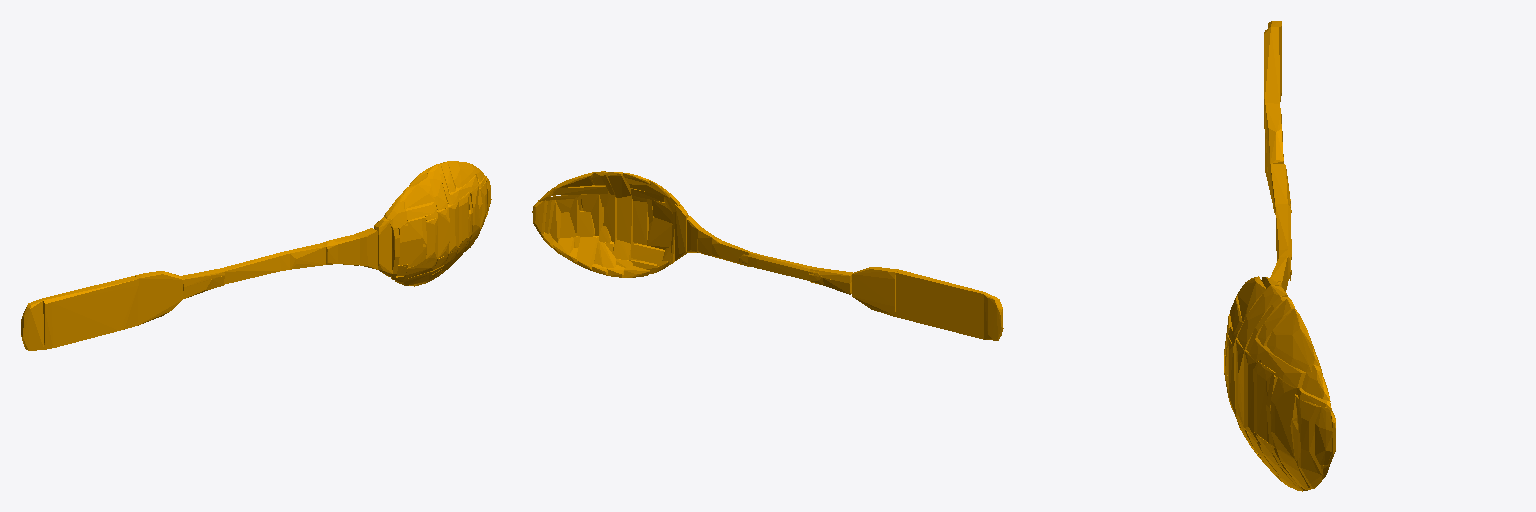
robot.urdf — cutlery-spoon:
<?xml version="1.0" ?>
<robot name="cutlery-spoon">
  <link name="baseLink">
    <contact>
      <lateral_friction value="1.0"/>
      <inertia_scaling value="3.0"/>
    </contact>
    <inertial>
      <origin rpy="0 0 0" xyz="0.000 0.000 0.000"/>
       <mass value=".1"/>
       <inertia ixx="1" ixy="0.0" ixz="0.0" iyy="1" iyz="0.0" izz="1"/>
    </inertial>
    <visual>
      <origin rpy="0 0 0" xyz="0 0 0"/>
      <geometry>
        <mesh filename="cutlery/cutlery-spoon_3_new.obj" scale="1.0 1.0 1.0"/>
      </geometry>
    </visual>
    <collision>
      <origin rpy="0 0 0" xyz="0 0 0"/>
      <geometry>
        <mesh filename="../collision/cutlery/cutlery-spoon_3_new.obj" scale="1.0 1.0 1.0"/>
      </geometry>
    </collision>
  </link>
</robot>
        

--- Render facts (derived) ---
The picture shows the robot from 3 angles, left to right: view 1: azimuth 30°, elevation 25°; view 2: azimuth 150°, elevation 25°; view 3: azimuth 270°, elevation 25°; orthographic projection.
Model cutlery-spoon with 1 links and 0 joints (none), rooted at baseLink, posed all joints at 0.
Links seen in each view (by area): view 1: baseLink; view 2: baseLink; view 3: baseLink.
Link boxes in pixels (x1,y1,x2,y2): baseLink: [21, 161, 491, 350]; baseLink: [532, 171, 1003, 340]; baseLink: [1224, 21, 1335, 491].
Size in the robot's own frame: 0.1327 by 0.0158 by 0.0295 metres.
1 mesh visuals loaded from 1 distinct referenced files (1 OBJ).